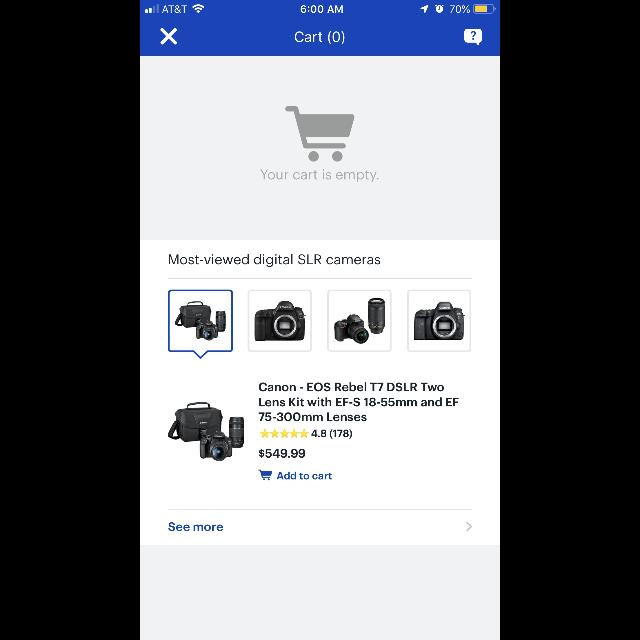icon: (286, 106, 354, 162), (260, 429, 308, 438), (464, 28, 482, 46), (160, 28, 178, 46), (258, 470, 272, 480), (466, 522, 472, 532)
image: (168, 289, 234, 359), (168, 402, 245, 462), (248, 290, 312, 352), (328, 290, 392, 352), (407, 290, 471, 352)
text: (259, 382, 459, 422), (170, 255, 380, 268), (261, 170, 379, 182), (295, 32, 345, 44), (168, 522, 224, 532), (258, 448, 306, 458), (276, 472, 332, 480), (312, 429, 352, 439)
uppertaskbar: (140, 0, 500, 14)
